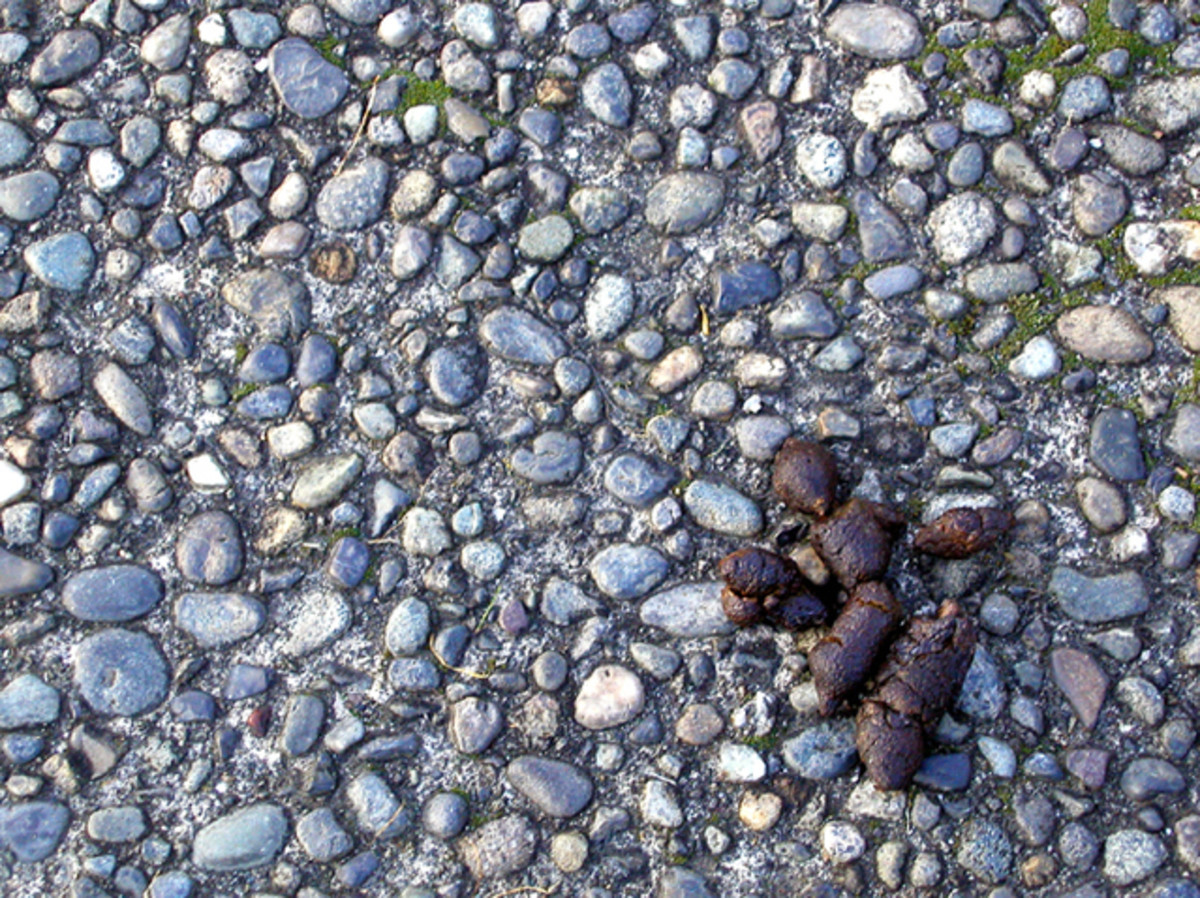Dog: (733, 442, 988, 782)
